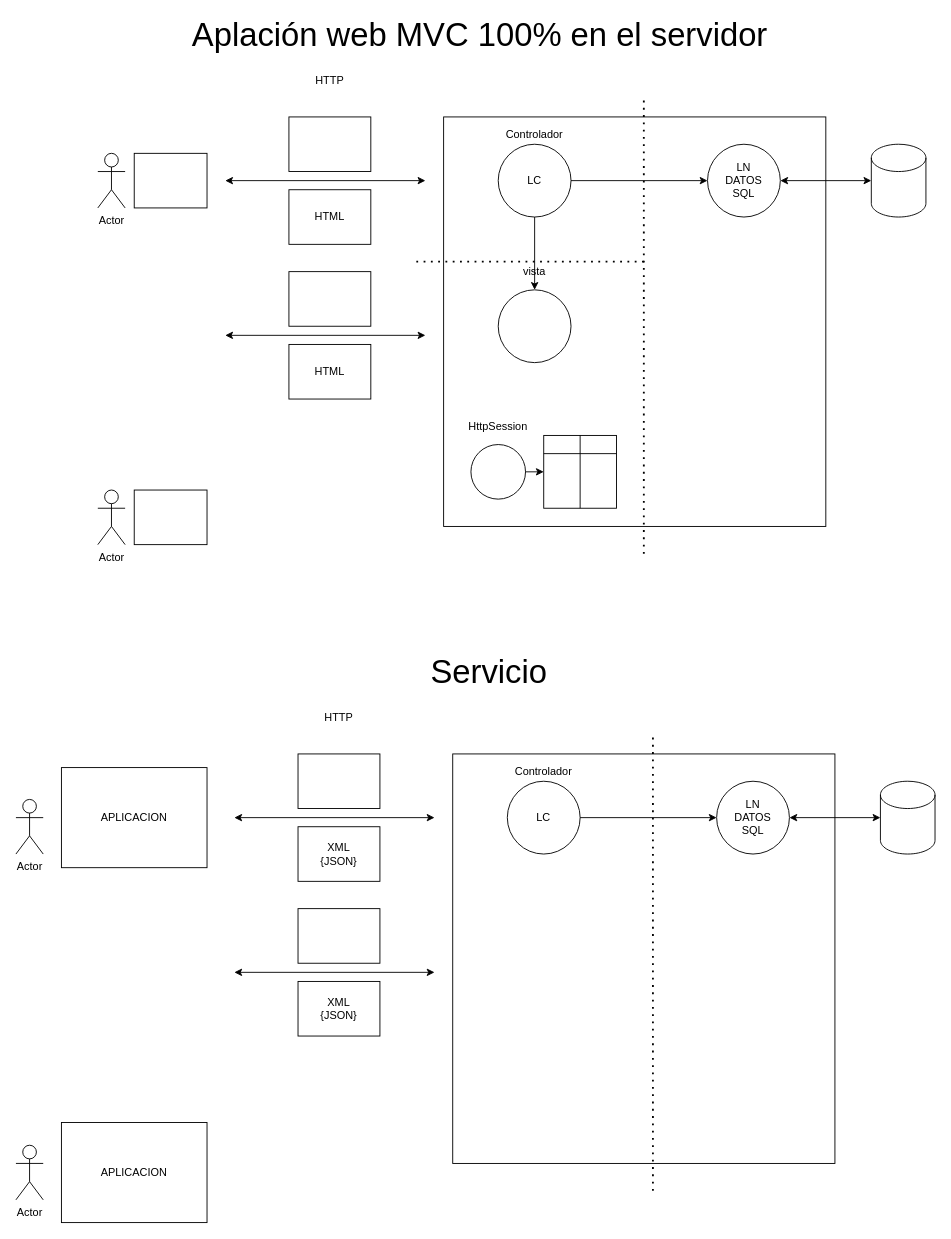
Image size: 951x1239. Some labels were removed from this diagram. The shapes that lost their labels are listed below. From the top down, each one's centre as x and y in pixels, then its label:
At (534,326): "PRESENTACION".
At (498,471): "sid:101".
